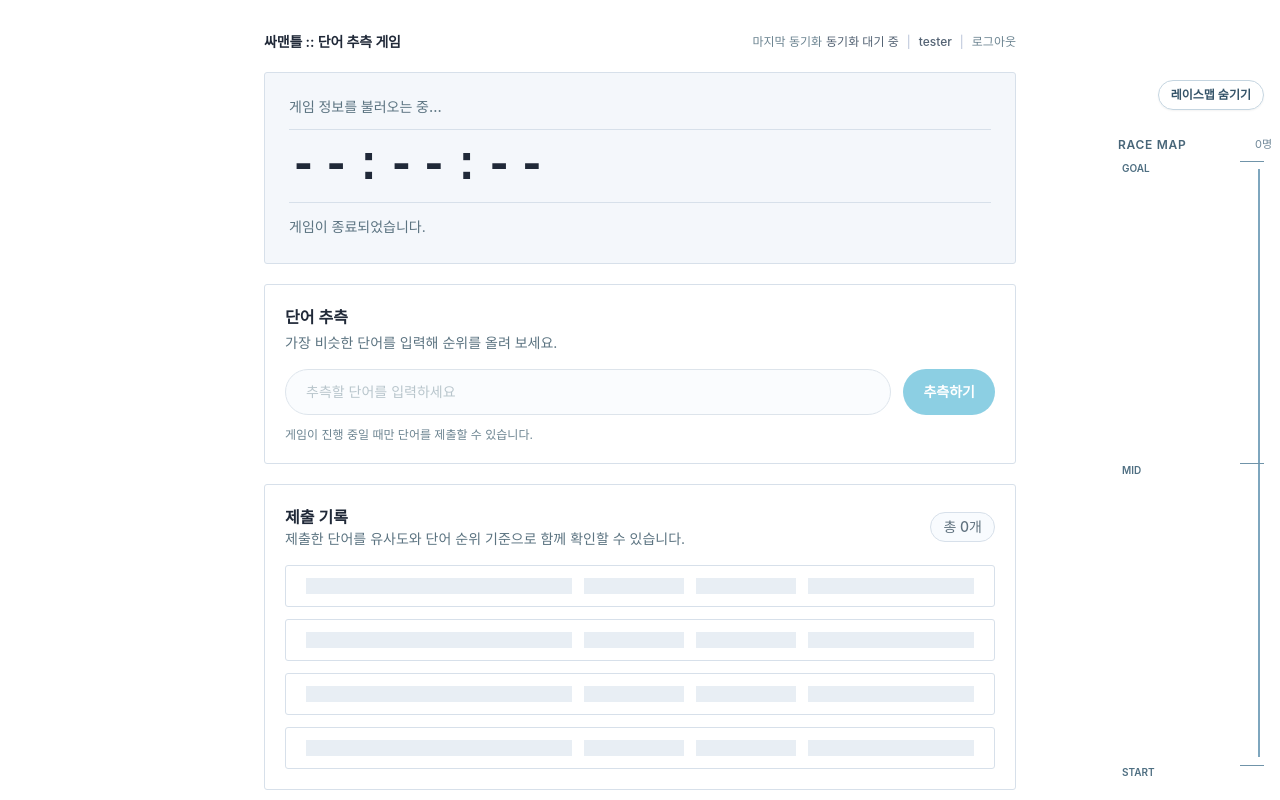
Test: logs out to the login page when auth exists
Click the button "로그아웃". click: (994, 42)
box: [972,34,1016,50]
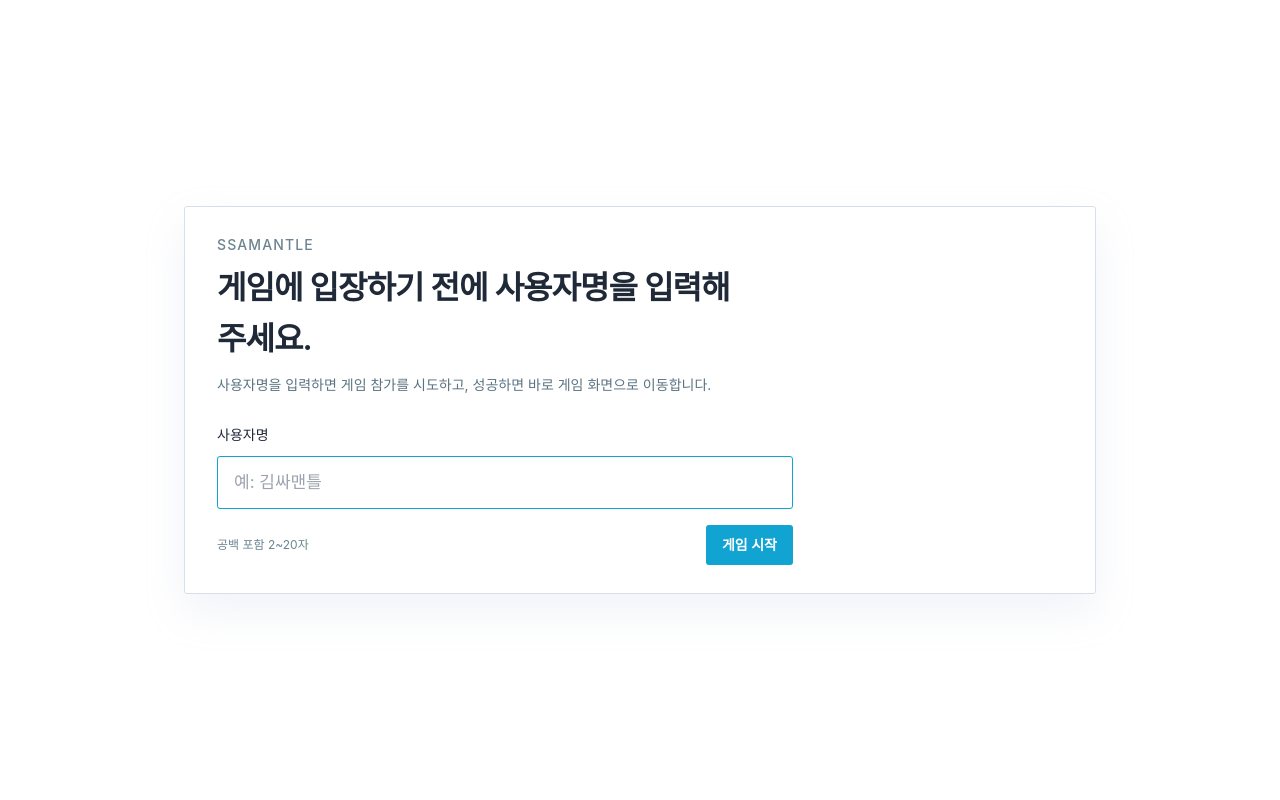
Now the heading "게임에 입장하기 전에 사용자명을 입력해 주세요." is shown, box [217,263,793,365]
